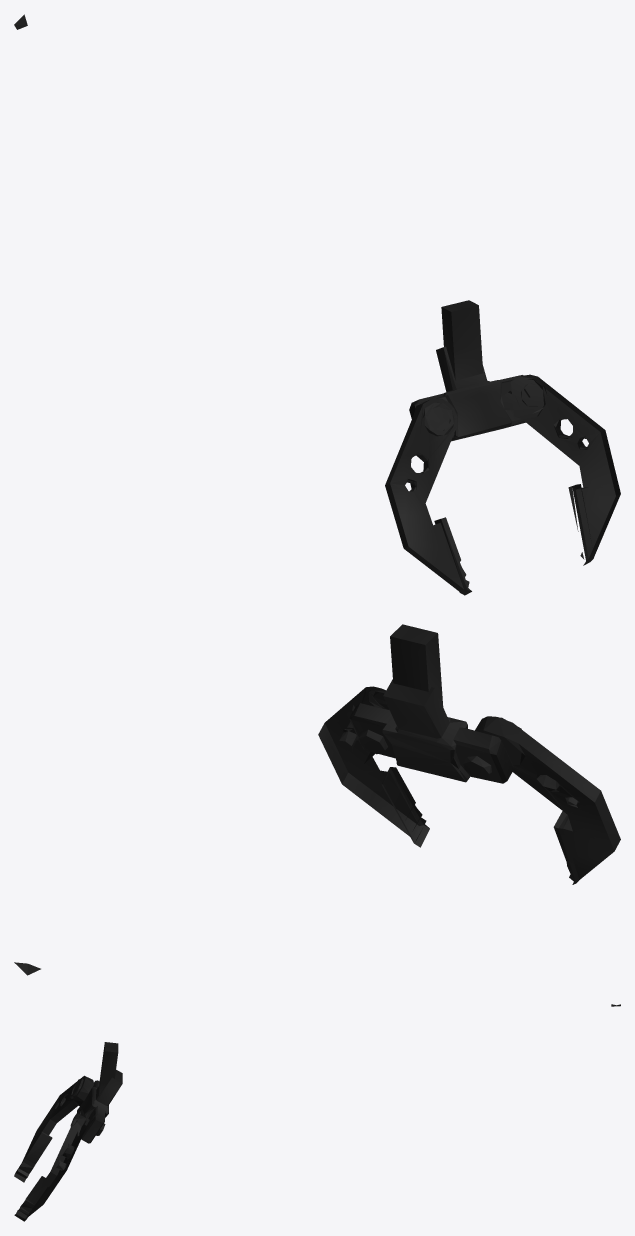
File: garra.obj
3 renders of one model, top to bottom at view 1: azimuth 30°, elevation 25°; view 2: azimuth 150°, elevation 25°; view 3: azimuth 270°, elevation 25°, orthographic. The views are drawn at different scales.
Parts seen in each view (by area): view 1: robotic_arm.001; view 2: robotic_arm.001; view 3: robotic_arm.001.
Boxes of the visible parts, x1,y1,x2,y2 form: robotic_arm.001: (14, 14, 620, 595); robotic_arm.001: (14, 624, 620, 975); robotic_arm.001: (14, 1004, 620, 1221).
Bounding box in the file's own units: 2.53 × 2.92 × 9.03.
Materials: 1 (1 with a texture image).
